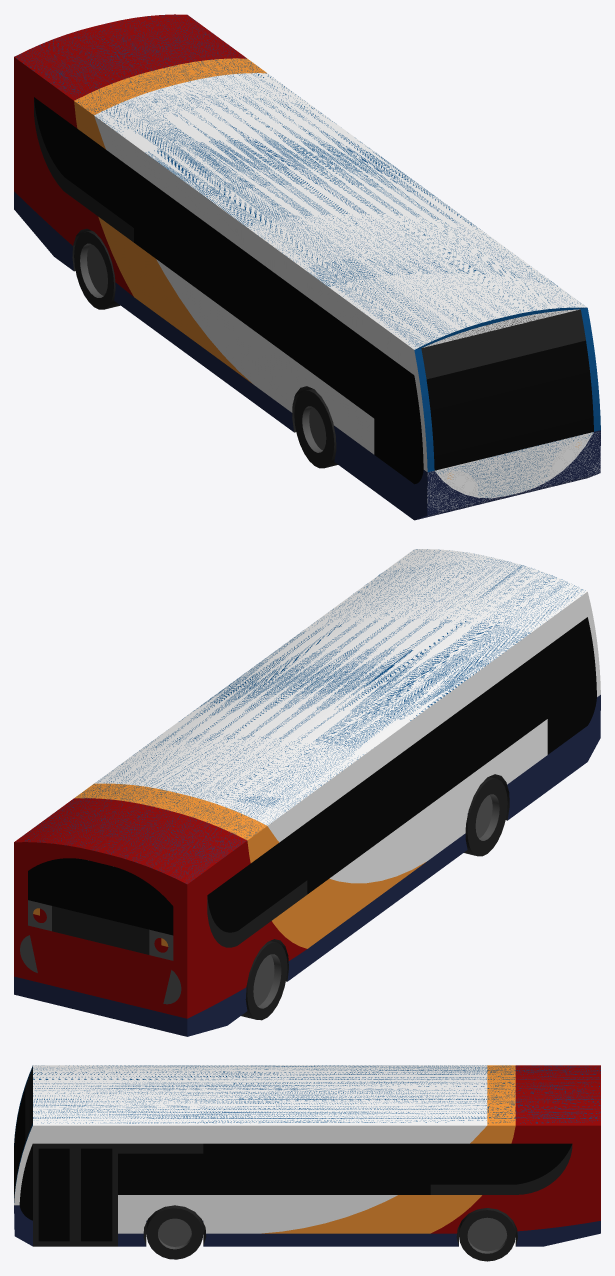
File: enviro300.dae
3 views of the same model, one above another, from view 1: azimuth 30°, elevation 25°; view 2: azimuth 150°, elevation 25°; view 3: azimuth 270°, elevation 25° (orthographic). The views are drawn at different scales.
Visible parts, largest first — view 1: SketchUp (×23); view 2: SketchUp (×21); view 3: SketchUp (×25).
Boxes of the visible parts, x1=… form: SketchUp (×23): x1=14, y1=14, x2=600, y2=520; SketchUp (×21): x1=14, y1=549, x2=600, y2=1036; SketchUp (×25): x1=14, y1=1065, x2=600, y2=1261.
Bounding box in the file's own units: 9.84 × 40.68 × 10.99.
